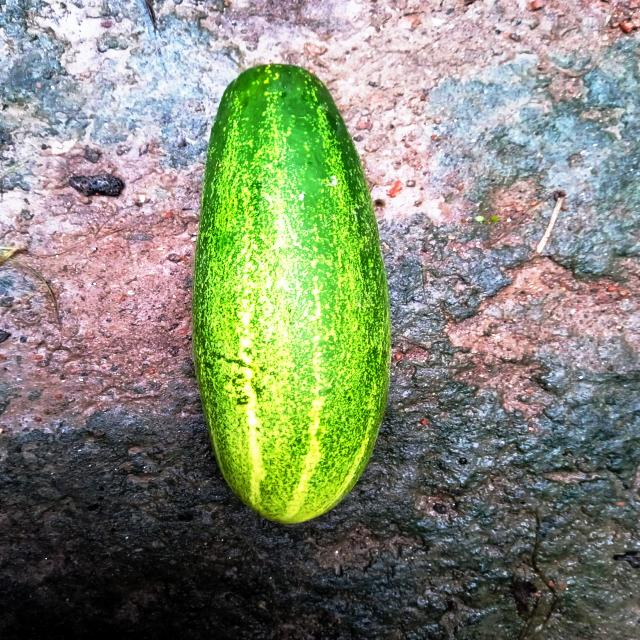Fresh-Cucumber: (190, 60, 393, 528)
